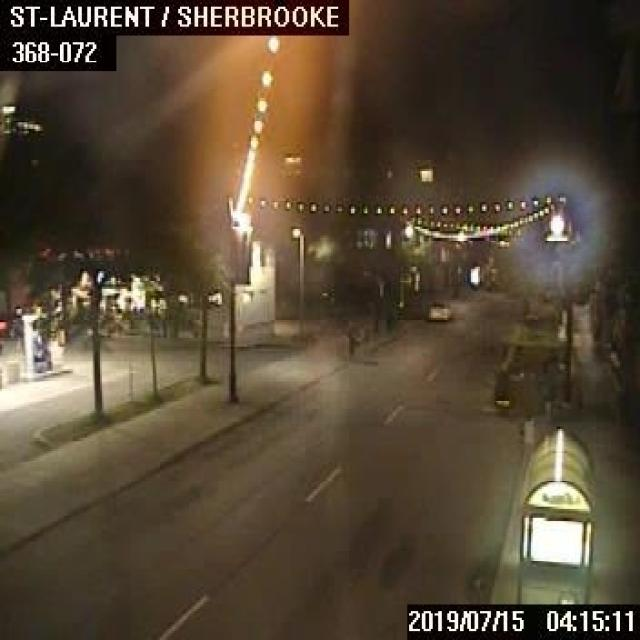vehicle: (423, 300, 452, 320)
